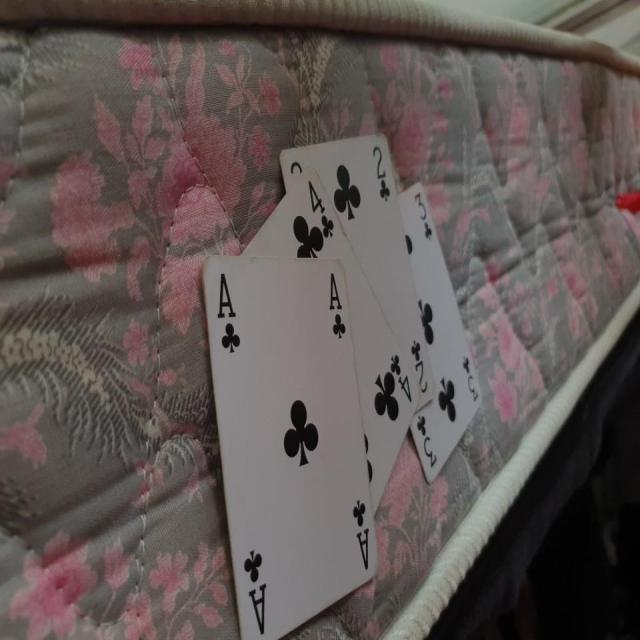2 Trefoils: (279, 132, 438, 412)
3 Trefoils: (396, 177, 483, 483)
4 Trefoils: (237, 167, 421, 517)
A Trefoils: (199, 255, 378, 640)
